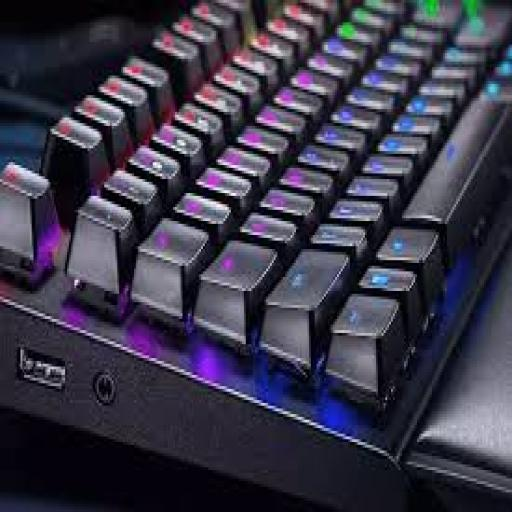keyboard: (0, 0, 510, 506)
